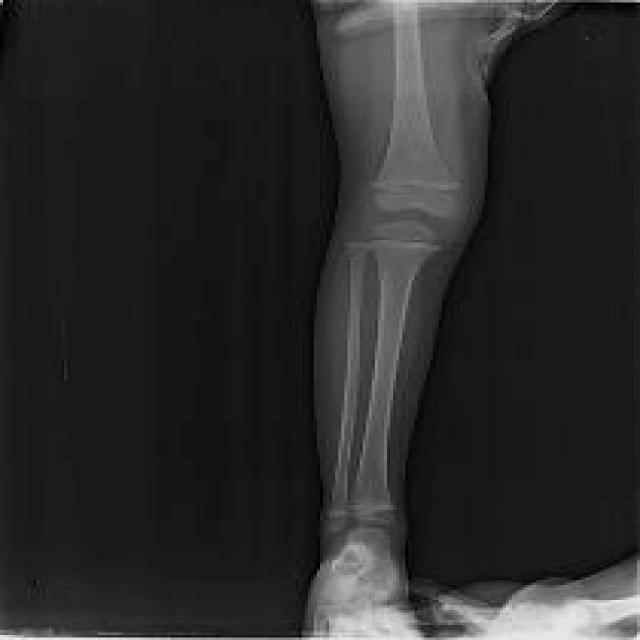bone-cancer: (322, 533, 398, 603)
